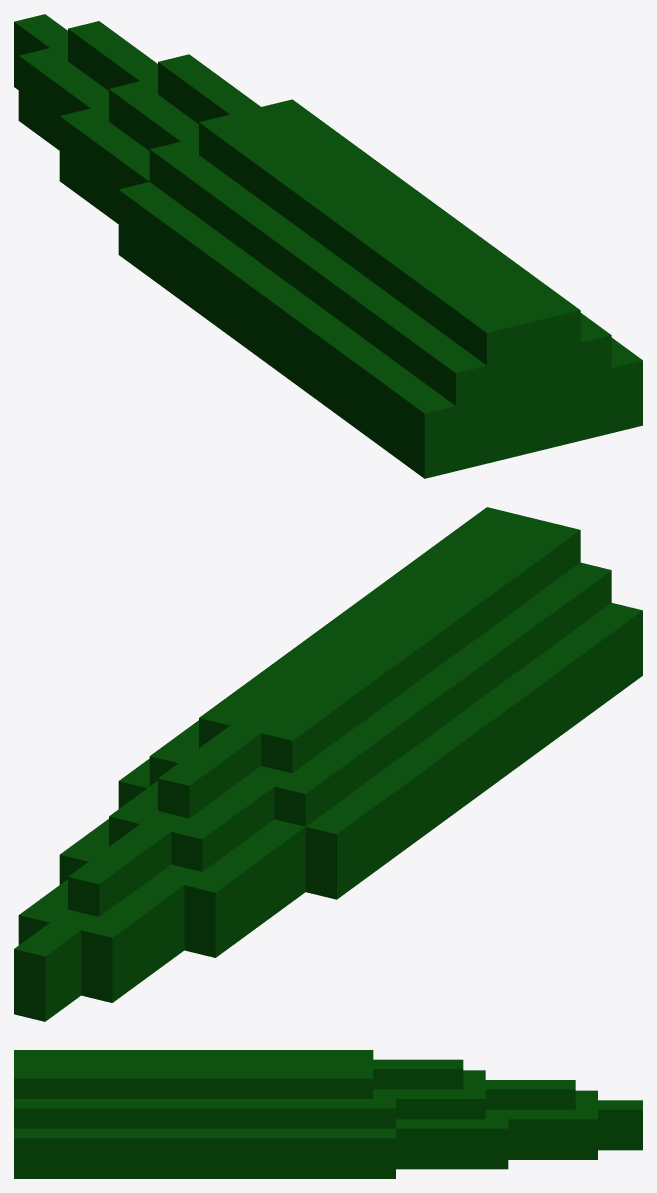
File: waniBD.obj
3 renders of one model, top to bottom at view 1: azimuth 30°, elevation 25°; view 2: azimuth 150°, elevation 25°; view 3: azimuth 270°, elevation 25°, orthographic. The views are drawn at different scales.
Visible parts, largest first — view 1: Untitled; view 2: Untitled; view 3: Untitled.
Part boxes in pixels (left/top/right/bottom): Untitled: left=14, top=14, right=642, bottom=478; Untitled: left=14, top=507, right=642, bottom=1021; Untitled: left=14, top=1050, right=642, bottom=1178.
Size of the model in its own units: 1.4 by 0.8 by 5.6.
